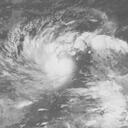cyclone: (1, 7, 125, 124)
